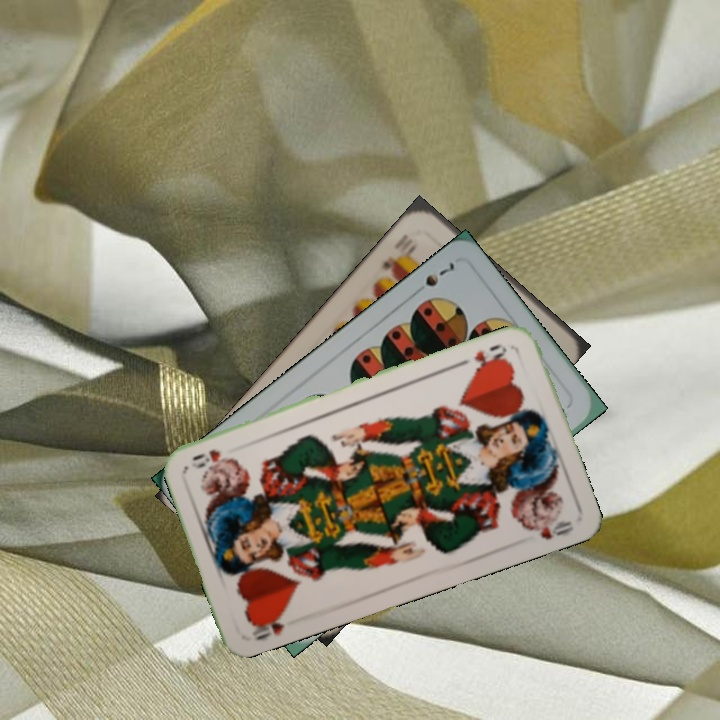E10: (377, 229, 415, 277)
HO: (247, 606, 291, 643), (470, 339, 510, 373)
S7: (408, 258, 457, 299)
